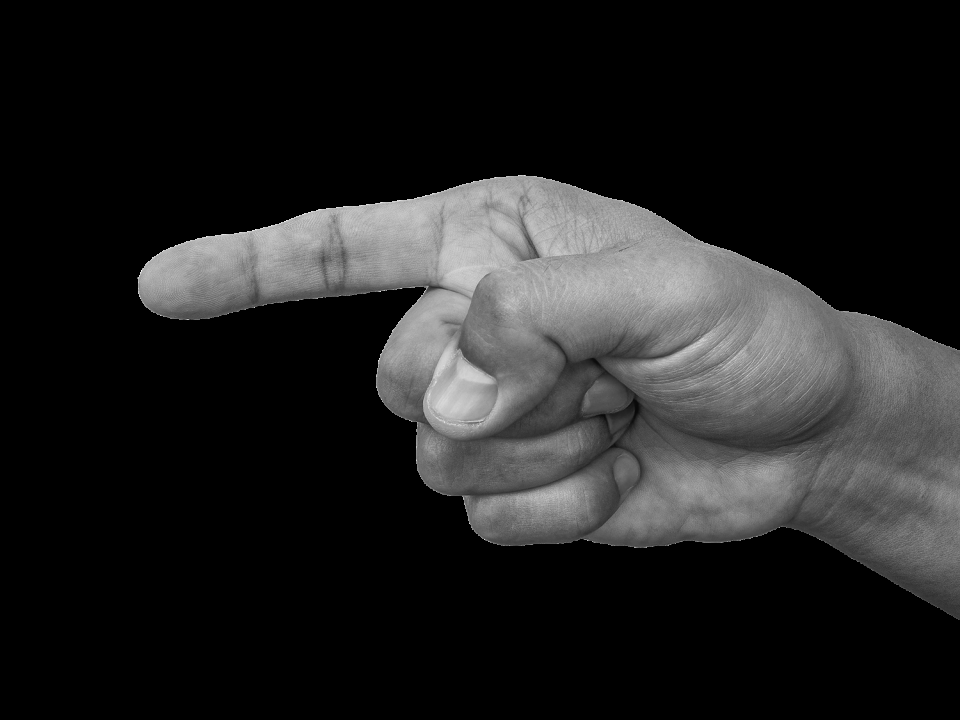pointing_gesture: (132, 170, 891, 547)
